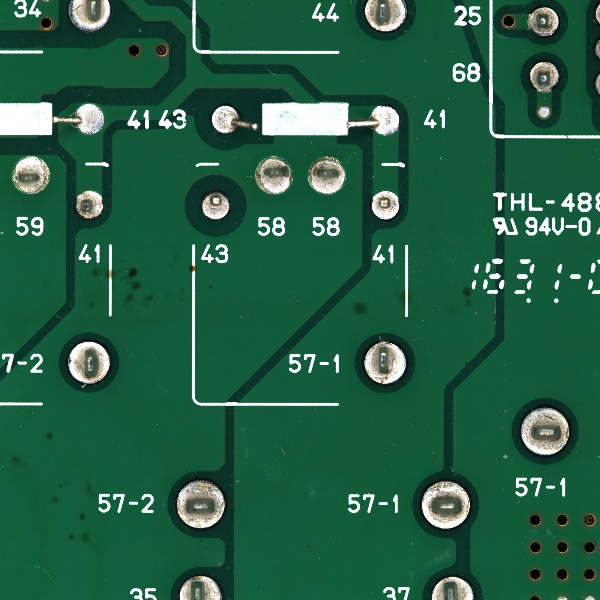Circle: (518, 402, 575, 457), (416, 478, 474, 532), (357, 338, 415, 392), (170, 476, 227, 530), (59, 337, 115, 388), (70, 100, 106, 136), (365, 103, 401, 139), (367, 186, 403, 222), (206, 101, 242, 137), (198, 187, 234, 223), (74, 186, 109, 222), (526, 59, 563, 92), (529, 6, 560, 38)
